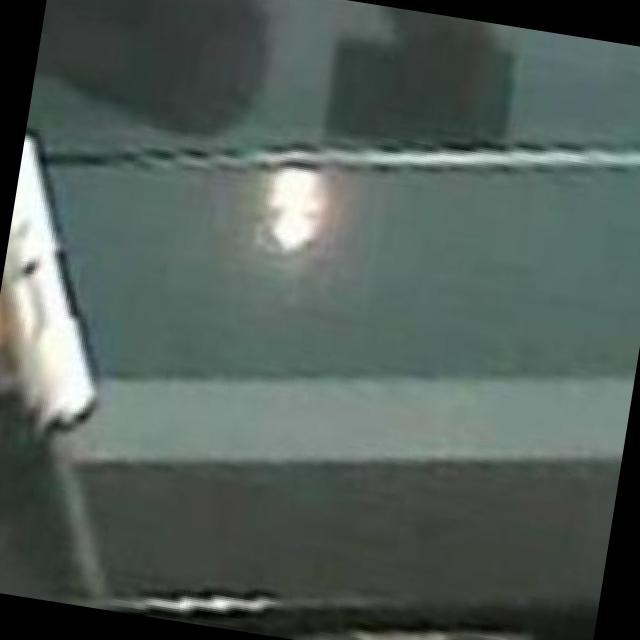Guns: (0, 88, 186, 506)
